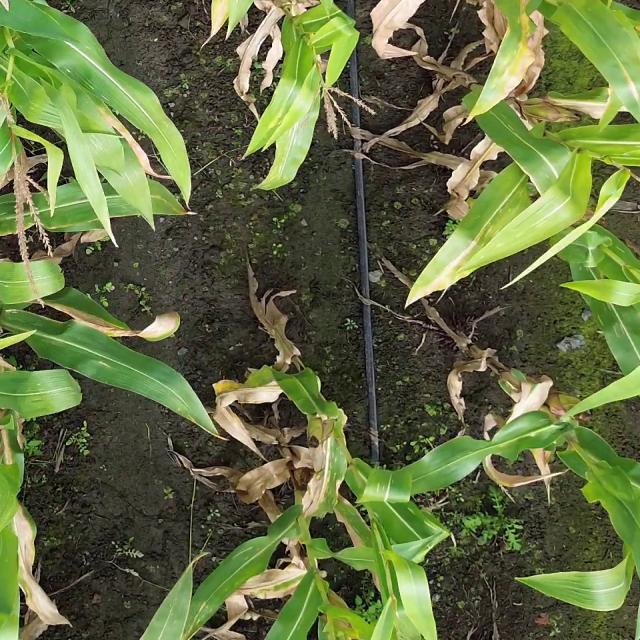gray-leaf-spot: (52, 54, 124, 104), (583, 278, 631, 341), (322, 442, 350, 514), (477, 196, 521, 239), (274, 132, 308, 184), (225, 545, 267, 586), (337, 504, 377, 538), (368, 472, 407, 500)
northern-leaf-blight: (0, 426, 40, 528), (611, 61, 640, 106)
